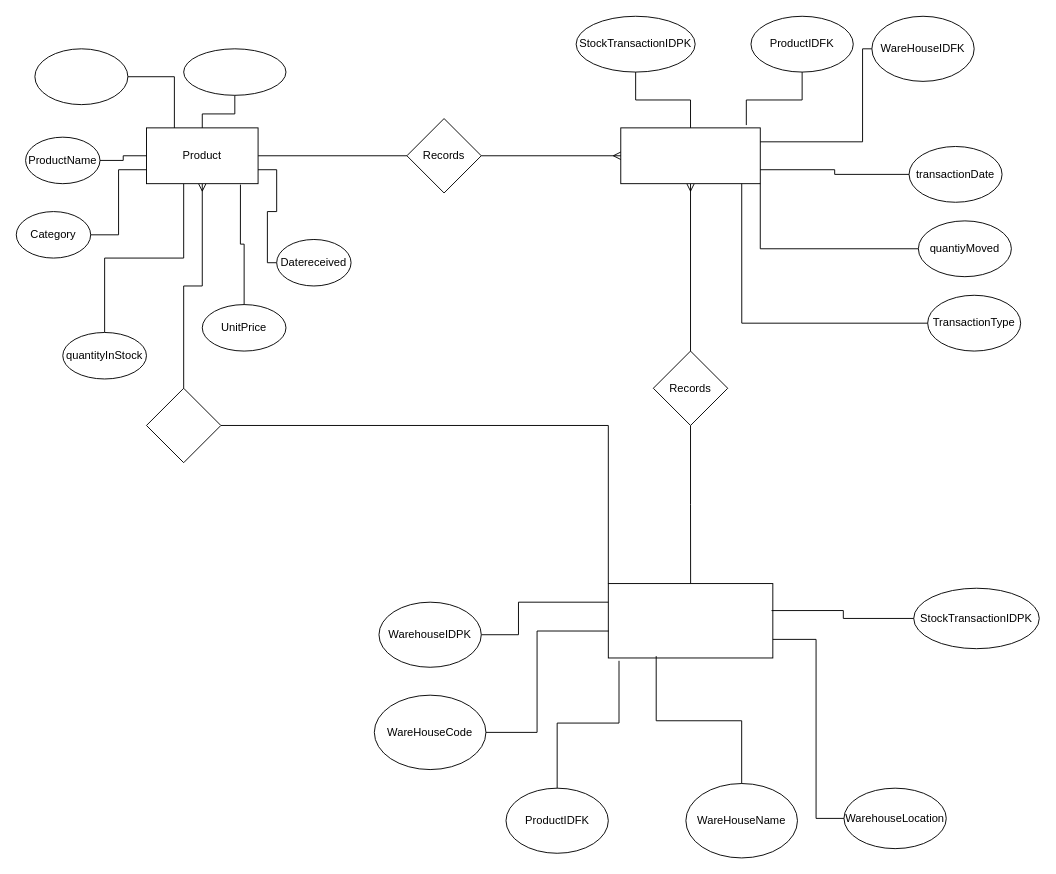
This 1056x874 diagram has some shape labels left out. The centre of each missing label's shape, as x and y in pixels:
"ProductCode" goes at pixel 81 76.
"ProductIdPK" goes at pixel 234 71.
"StockTransaction" goes at pixel 690 155.
"STORE" goes at pixel 183 425.
"warehouse" goes at pixel 690 620.
